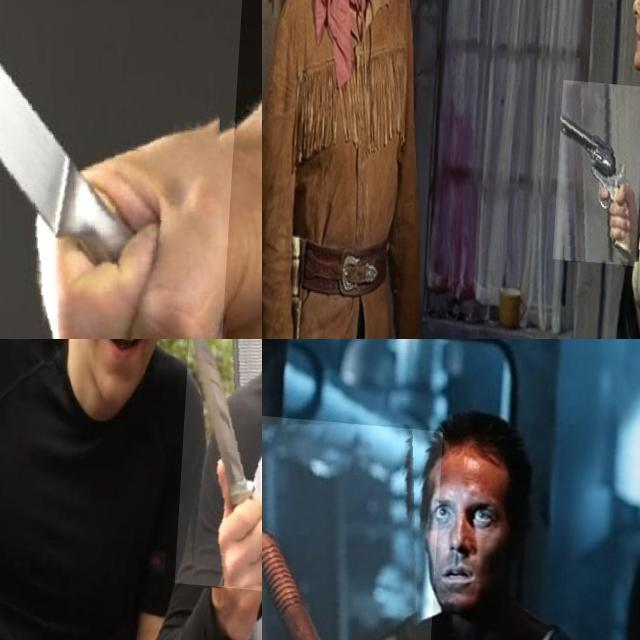-: (0, 0, 249, 339), (180, 339, 262, 585)
gun-knife-thesis - v11 Yolov5 augmented: (262, 407, 445, 640), (559, 73, 640, 258)
